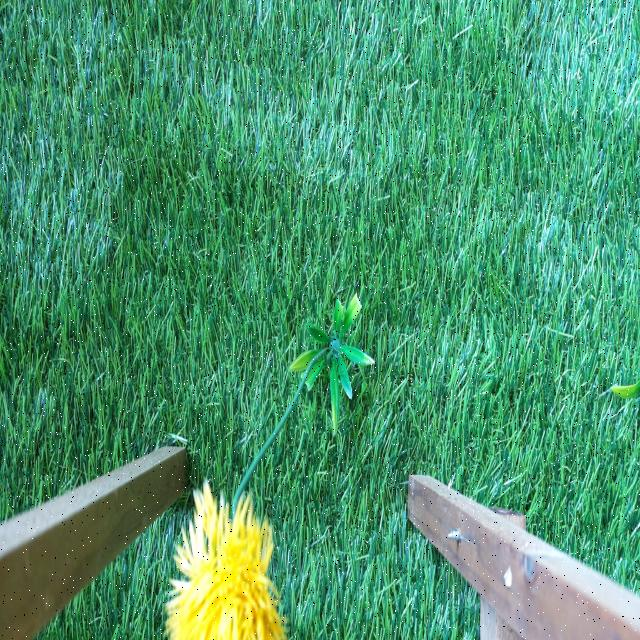base: (292, 293, 375, 420)
flower: (158, 490, 294, 640)
